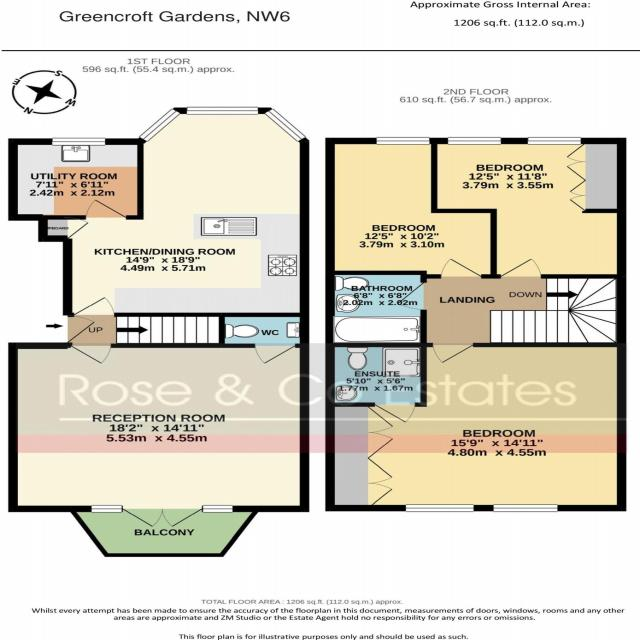DOOR: (250, 343, 303, 365), (81, 197, 129, 220), (497, 256, 546, 278), (437, 255, 483, 278), (430, 342, 476, 365), (69, 343, 114, 366), (372, 402, 417, 424), (71, 295, 118, 316)
DOUBLE DOOR: (121, 505, 204, 529)
ROOM: (37, 106, 310, 317), (7, 342, 310, 528), (325, 342, 627, 512), (430, 135, 626, 278), (325, 136, 498, 279)
WINDOW: (134, 106, 183, 143), (263, 106, 309, 142), (184, 105, 261, 115), (490, 502, 560, 513), (400, 503, 476, 513), (371, 135, 433, 147), (445, 135, 505, 145), (525, 136, 582, 145), (200, 503, 237, 515), (88, 503, 124, 514)
